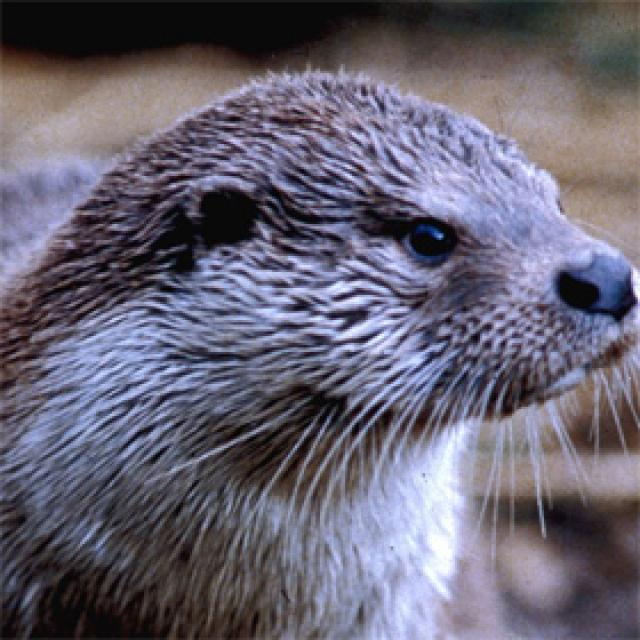otter: (1, 74, 640, 640)
